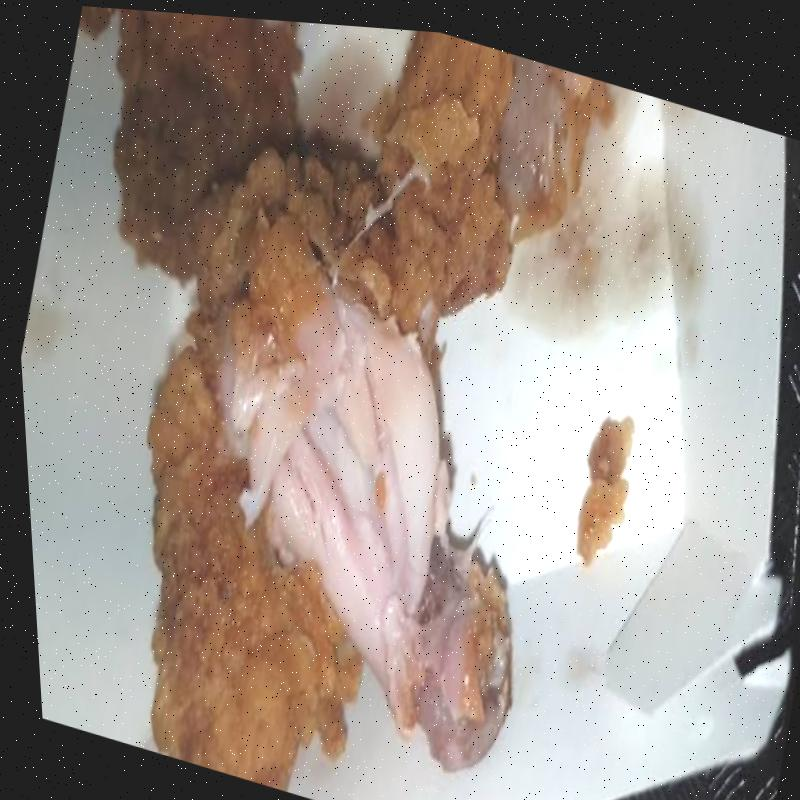left-over food: (79, 6, 613, 792)
